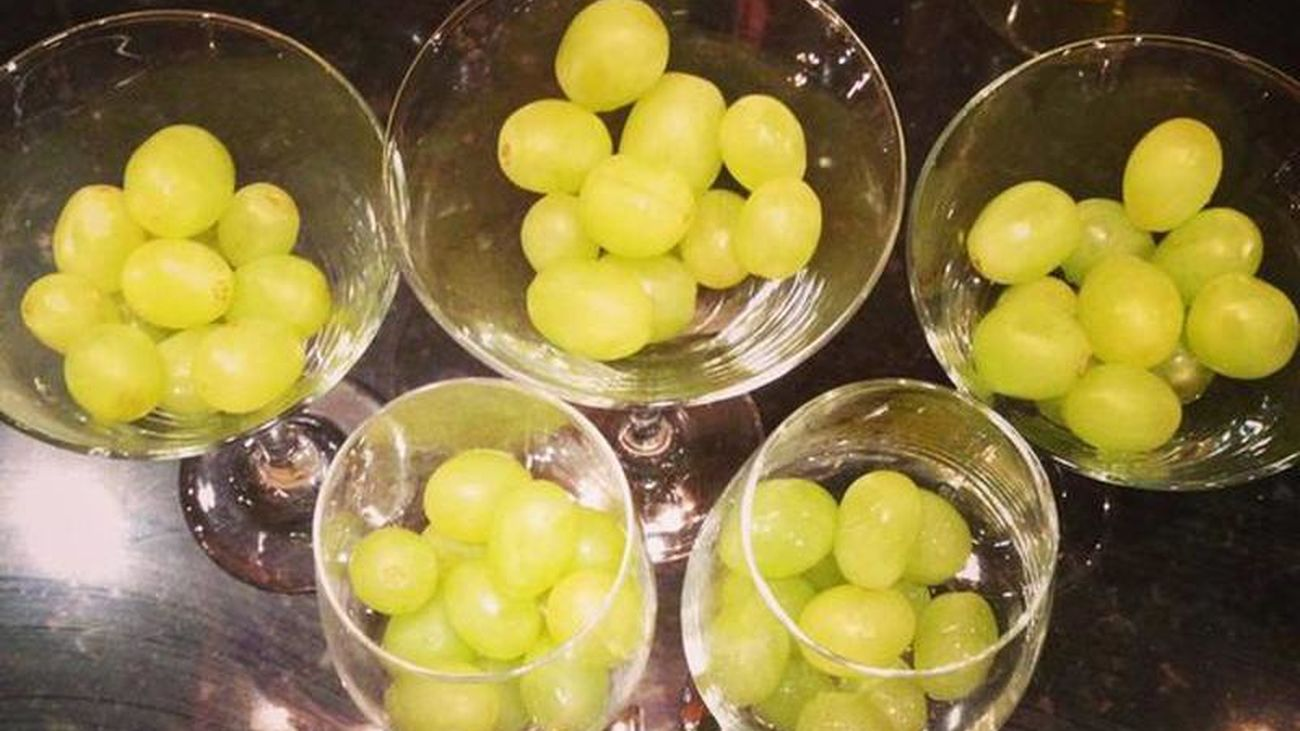Green grapes: (492, 21, 818, 356), (944, 145, 1291, 438), (340, 444, 637, 724), (14, 156, 333, 406), (731, 482, 995, 728)
